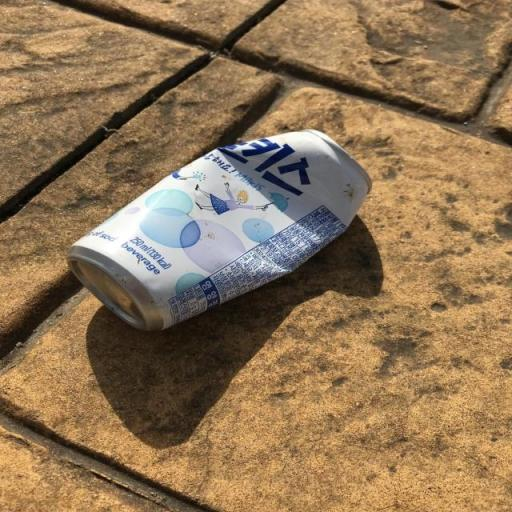metal: (36, 98, 406, 350)
